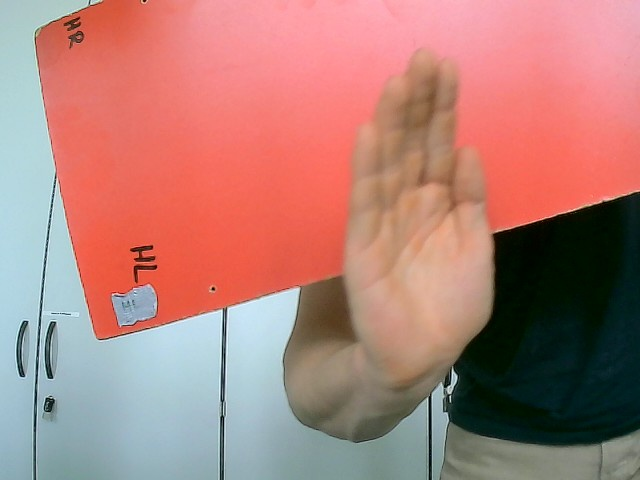stop: (340, 46, 497, 390)
